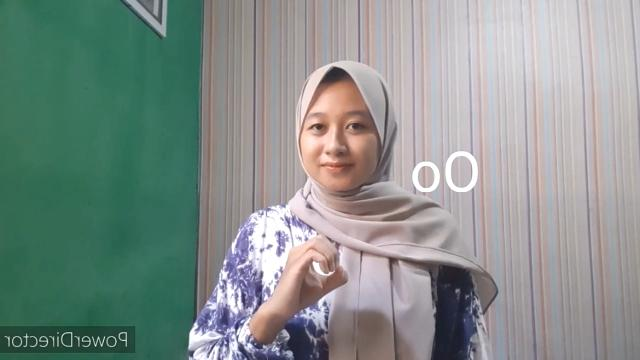O: (264, 231, 354, 319)
